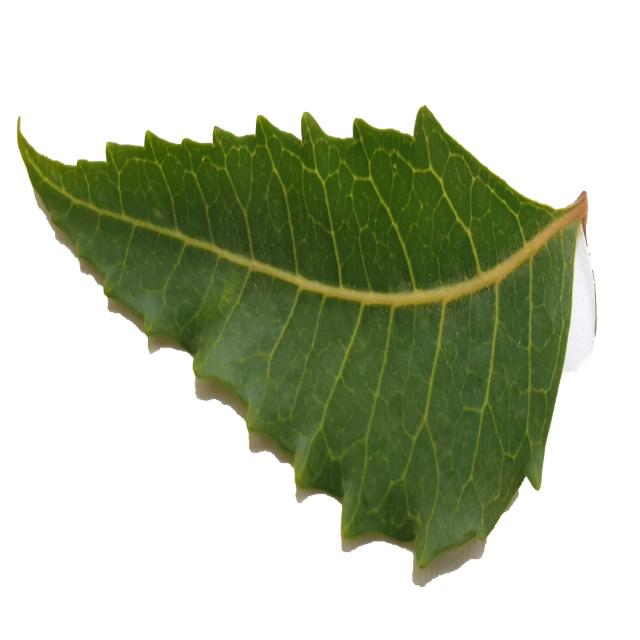Medicinal-Neem: (17, 100, 599, 588)
